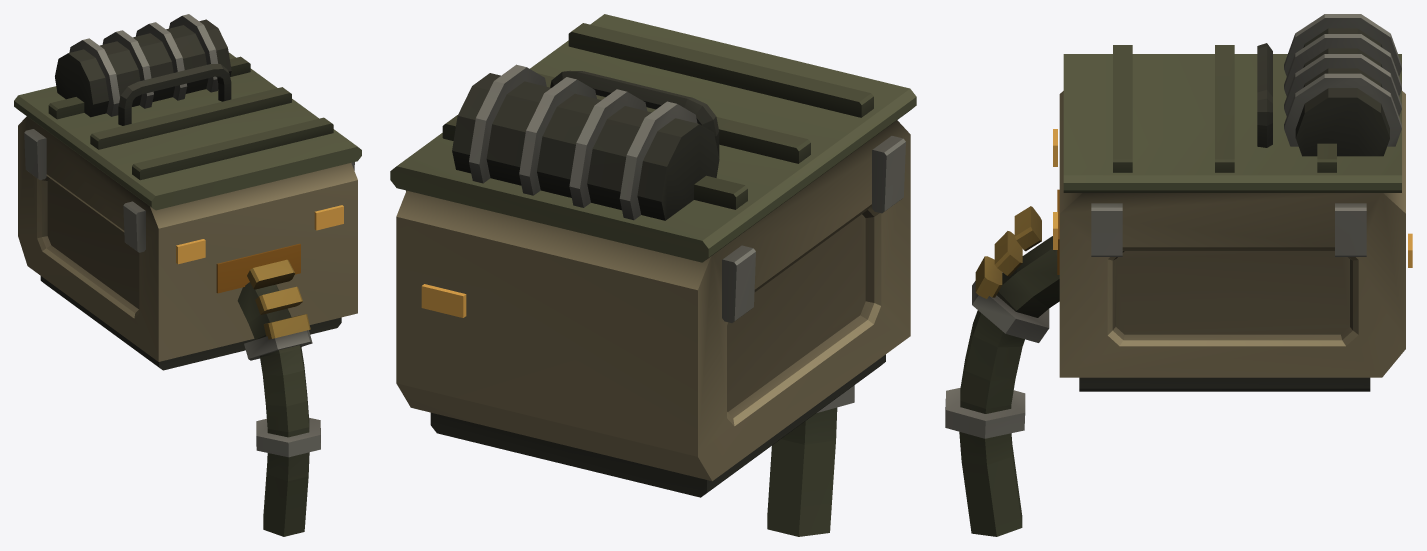
The model's file is sh-beltfeed.glb.
3 renders of one model, left to right at view 1: azimuth 30°, elevation 25°; view 2: azimuth 150°, elevation 25°; view 3: azimuth 270°, elevation 25°, orthographic. The views are drawn at different scales.
Parts seen in each view (by area): view 1: Body, Glow; view 2: Body, Glow; view 3: Body, Glow.
Boxes of the visible parts, x1=… form: Body: x1=14, y1=14, x2=361, y2=536; Glow: x1=176, y1=205, x2=343, y2=264; Body: x1=390, y1=14, x2=916, y2=536; Glow: x1=421, y1=284, x2=466, y2=317; Body: x1=945, y1=14, x2=1405, y2=536; Glow: x1=1053, y1=129, x2=1412, y2=267.
Size of the model in its own units: 0.79 by 1.35 by 1.19.
